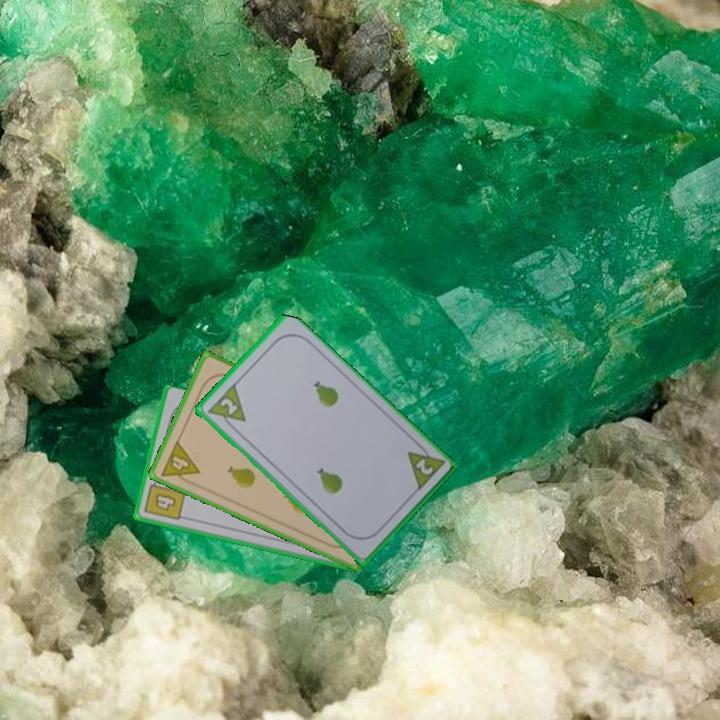2p: (403, 438, 447, 494), (203, 381, 249, 434)
4b: (141, 474, 188, 523)
4p: (157, 437, 203, 489)
